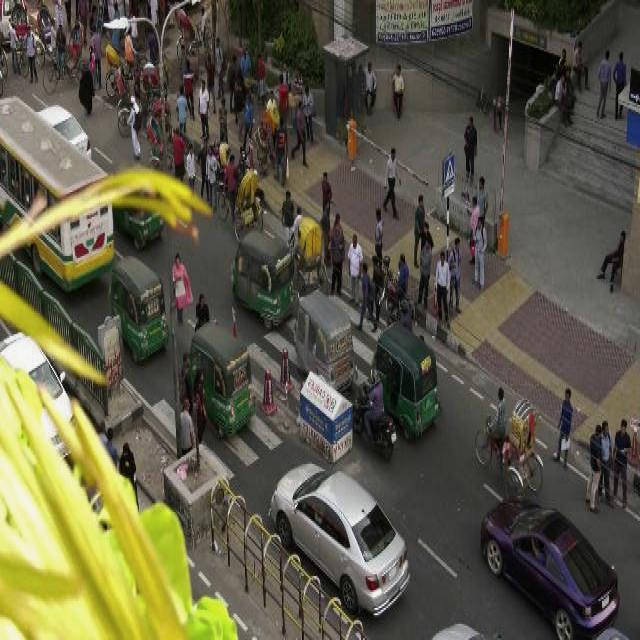car: (268, 458, 413, 620), (480, 490, 622, 634)
motorcycle: (370, 313, 444, 441), (471, 375, 545, 501), (191, 316, 257, 444), (109, 249, 172, 368), (232, 226, 299, 332), (294, 284, 358, 394), (219, 148, 266, 242), (291, 212, 334, 314), (354, 366, 397, 464), (43, 20, 88, 94)
